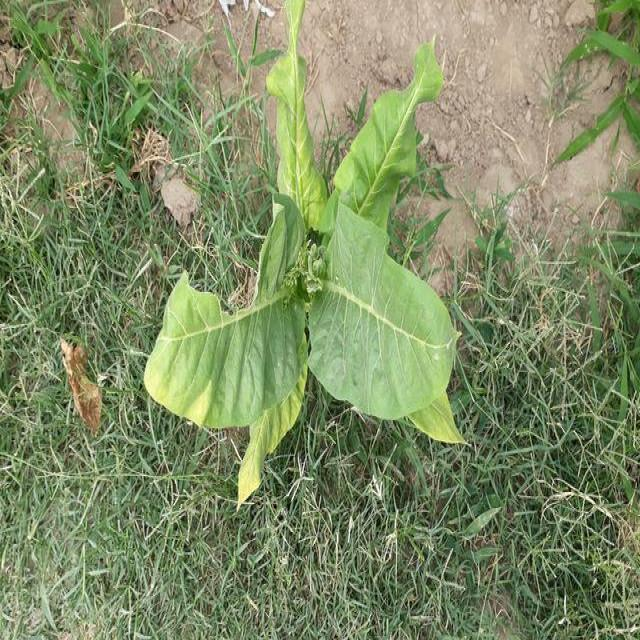crop: (150, 5, 478, 506)
